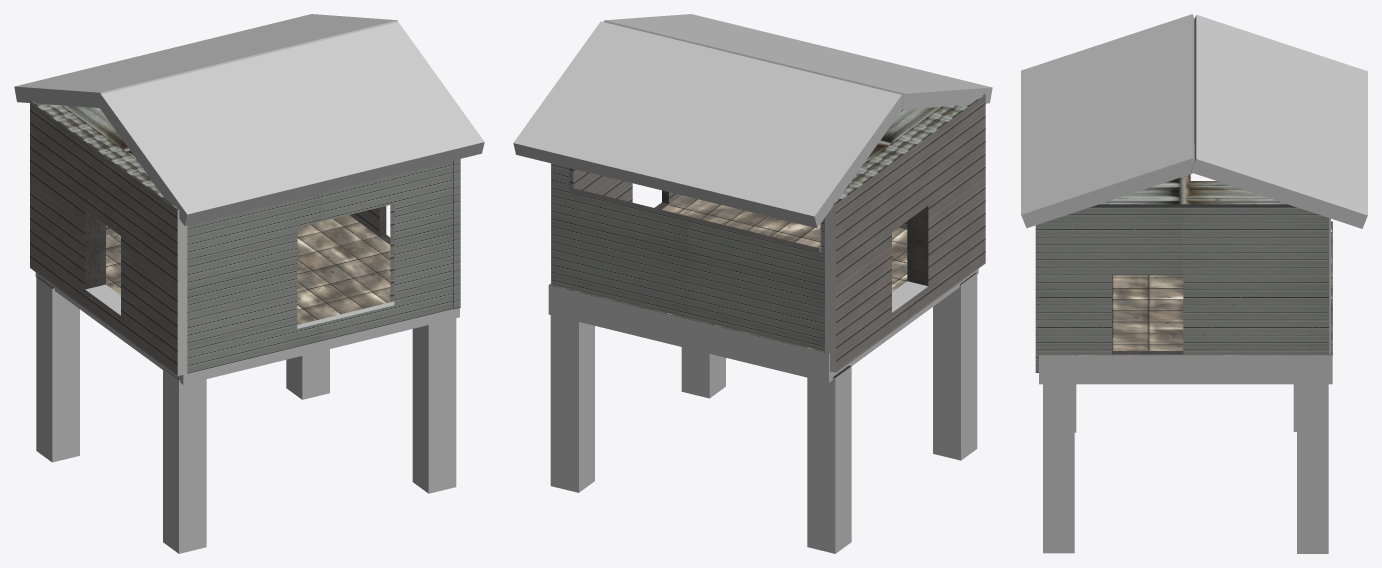
The model's file is hut2.fbx.
3 renders of one model, left to right at view 1: azimuth 30°, elevation 25°; view 2: azimuth 150°, elevation 25°; view 3: azimuth 270°, elevation 25°, orthographic.
Parts seen in each view (by area): view 1: Roof_28, wall7, wall5, floor2, Roof_29, Leg6, Leg7, Leg5, door3, Leg8, wall6, roof2; view 2: Roof_29, wall8, wall5, floor2, Roof_28, Leg5, Leg8, Leg6, door3, Leg7, wall6, roof2; view 3: wall6, Roof_29, Roof_28, floor2, Leg8, Leg7, roof2.
Boxes of the visible parts, x1=… form: Roof_28: x1=98, y1=22, x2=484, y2=225; wall7: x1=187, y1=161, x2=452, y2=373; wall5: x1=30, y1=101, x2=187, y2=375; floor2: x1=35, y1=215, x2=459, y2=384; Roof_29: x1=14, y1=14, x2=397, y2=107; Leg6: x1=163, y1=368, x2=206, y2=553; Leg7: x1=412, y1=318, x2=456, y2=493; Leg5: x1=36, y1=276, x2=79, y2=462; door3: x1=85, y1=210, x2=120, y2=315; Leg8: x1=286, y1=349, x2=329, y2=399; wall6: x1=350, y1=159, x2=460, y2=309; roof2: x1=63, y1=105, x2=135, y2=158; Roof_29: x1=513, y1=21, x2=902, y2=227; wall8: x1=551, y1=163, x2=824, y2=351; wall5: x1=819, y1=94, x2=985, y2=372; floor2: x1=548, y1=195, x2=978, y2=382; Roof_28: x1=603, y1=14, x2=992, y2=109; Leg5: x1=807, y1=365, x2=851, y2=553; Leg8: x1=550, y1=315, x2=594, y2=492; Leg6: x1=933, y1=272, x2=977, y2=460; door3: x1=892, y1=206, x2=928, y2=312; Leg7: x1=681, y1=347, x2=725, y2=398; wall6: x1=551, y1=163, x2=681, y2=284; roof2: x1=864, y1=107, x2=940, y2=162; wall6: x1=1035, y1=204, x2=1329, y2=372; Roof_29: x1=1191, y1=14, x2=1367, y2=228; Roof_28: x1=1021, y1=14, x2=1194, y2=228; floor2: x1=1039, y1=221, x2=1332, y2=384; Leg8: x1=1297, y1=381, x2=1328, y2=553; Leg7: x1=1043, y1=384, x2=1074, y2=553; roof2: x1=1100, y1=174, x2=1286, y2=204.
Bounding box in the file's own units: 2170 × 2185 × 2804.
